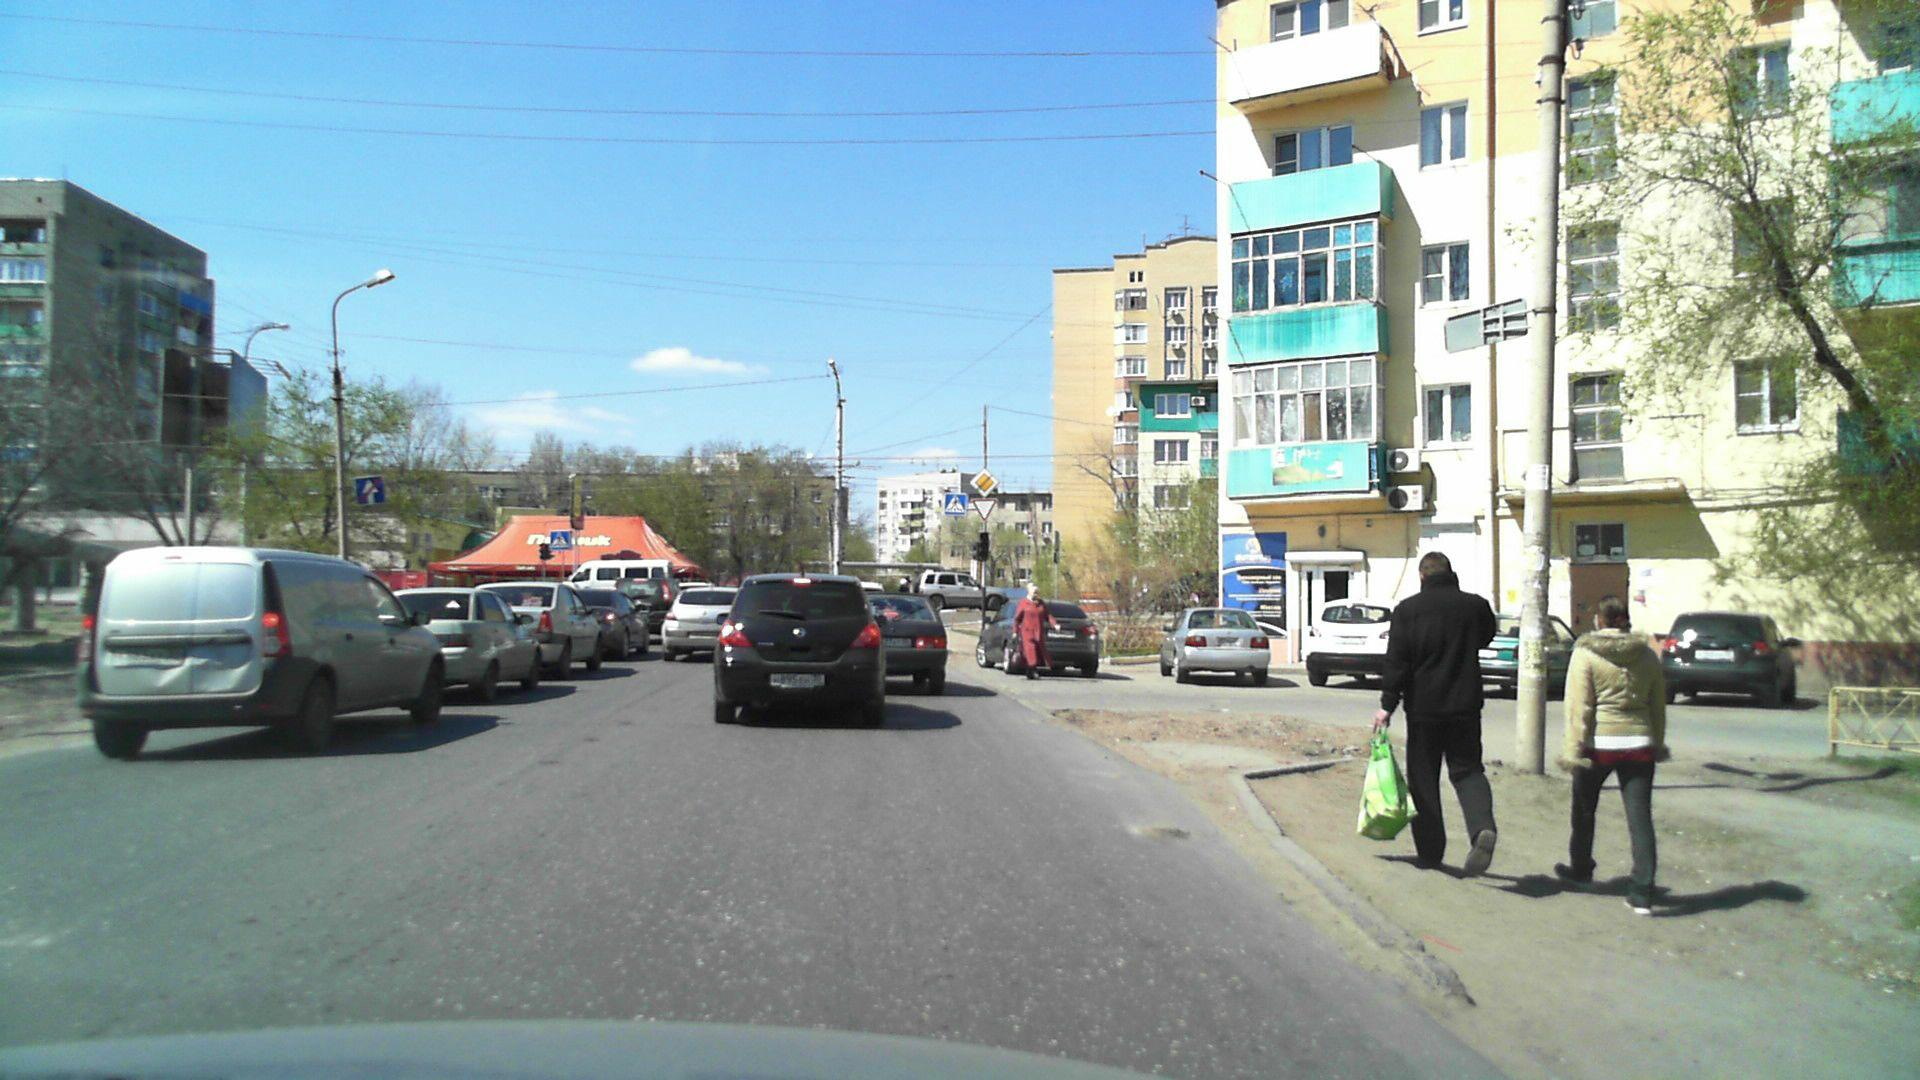2_2: (969, 469, 998, 497)
2_4: (971, 500, 998, 522)
5_19_1: (945, 495, 967, 514)
5_19_2: (550, 530, 571, 550)
5_6: (353, 476, 385, 504)
